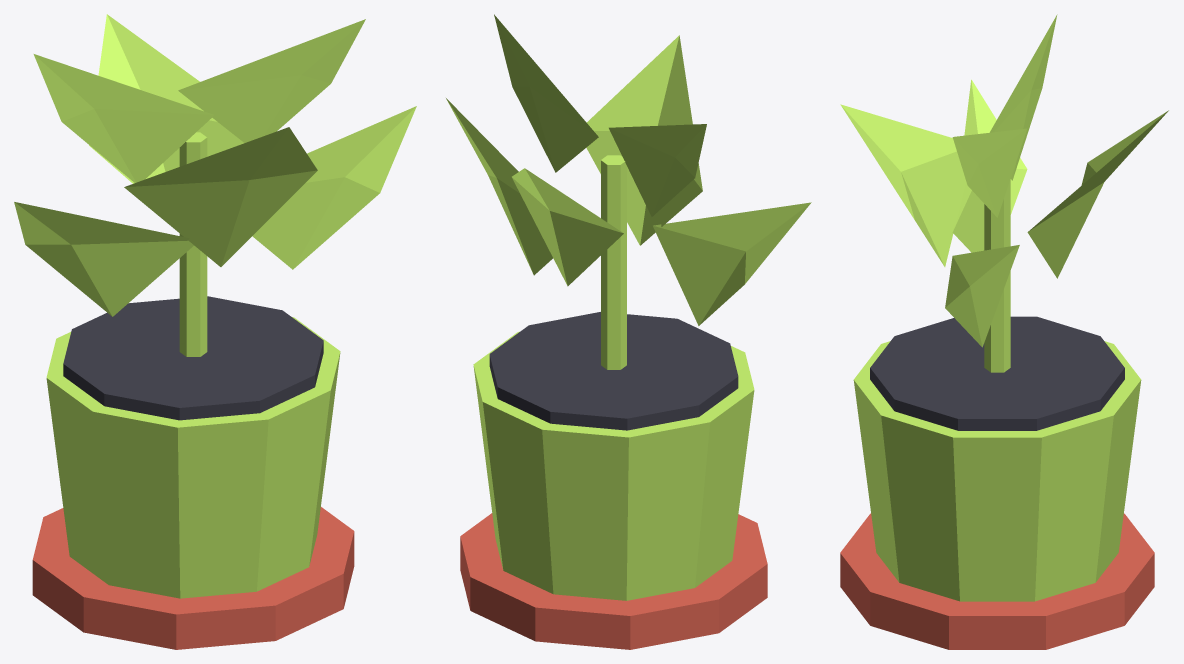
Rendered from houseplant-bfloqiv5up.obj.
3 views of the same model, side by side, from view 1: azimuth 30°, elevation 25°; view 2: azimuth 150°, elevation 25°; view 3: azimuth 270°, elevation 25° (orthographic). The views are drawn at different scales.
Visible parts, largest first — view 1: tapered-planter, soft-soil, cozy-pot-saucer, leaf-1, leaf-5, leaf-3, leaf-4, leaf-6, leaf-2, main-stem; view 2: tapered-planter, soft-soil, cozy-pot-saucer, leaf-3, leaf-1, leaf-2, leaf-5, leaf-6, main-stem, leaf-4; view 3: tapered-planter, soft-soil, cozy-pot-saucer, leaf-1, leaf-2, leaf-4, leaf-6, leaf-3, main-stem, leaf-5.
Boxes of the visible parts, box(x1,y1,x2,y2) form: tapered-planter: box(46, 317, 340, 598); soft-soil: box(63, 296, 323, 420); cozy-pot-saucer: box(32, 507, 354, 649); leaf-1: box(124, 127, 317, 266); leaf-5: box(33, 54, 214, 182); leaf-3: box(14, 202, 193, 316); leaf-4: box(252, 106, 416, 269); leaf-6: box(178, 19, 365, 142); leaf-2: box(89, 14, 244, 183); main-stem: box(179, 132, 207, 356); tapered-planter: box(473, 331, 754, 600); soft-soil: box(489, 312, 738, 430); cozy-pot-saucer: box(460, 513, 767, 649); leaf-3: box(653, 202, 811, 325); leaf-1: box(586, 35, 702, 245); leaf-2: box(512, 168, 623, 286); leaf-5: box(609, 124, 706, 216); leaf-6: box(494, 14, 598, 172); main-stem: box(601, 155, 626, 369); leaf-4: box(446, 98, 552, 275); tapered-planter: box(853, 341, 1141, 601); soft-soil: box(870, 316, 1124, 430); cozy-pot-saucer: box(840, 513, 1154, 649); leaf-1: box(840, 104, 965, 266); leaf-2: box(1027, 110, 1168, 278); leaf-4: box(945, 245, 1019, 347); leaf-6: box(952, 128, 1026, 217); leaf-3: box(952, 79, 1027, 252); main-stem: box(984, 179, 1010, 372); leaf-5: box(990, 14, 1057, 180).
Bounding box in the file's own units: 1.16 × 1.53 × 0.88.
